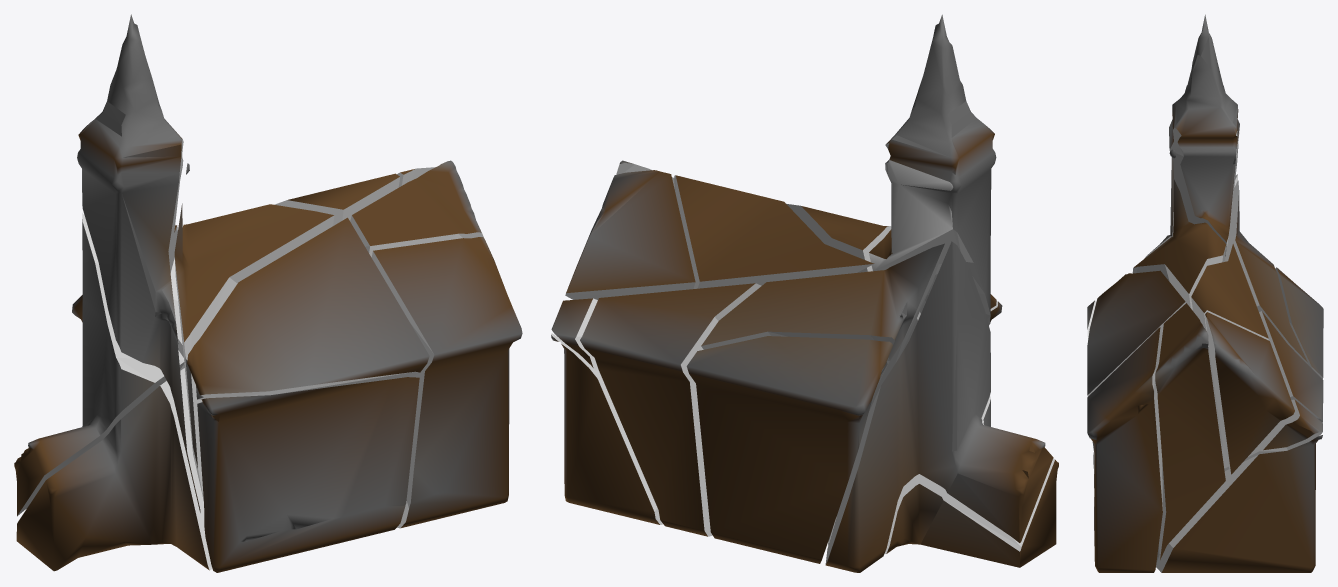
File: Churches(3).glb
3 renders of one model, left to right at view 1: azimuth 30°, elevation 25°; view 2: azimuth 150°, elevation 25°; view 3: azimuth 270°, elevation 25°, orthographic. The views are drawn at different scales.
Visible parts, largest first — view 1: Root.001, Root.015, Root.010, Root.003, Root, Root.012, Root.009, Root.005, Root.018; view 2: Root.014, Root.009, Root.006, Root.003, Root.004, Root.018, Root.008, Root.002, Root, Root.012, Root.011; view 3: Root.002, Root.015, Root.005, Root.003, Root.008, Root.010, Root.012, Root.018, Root.004, Root.014, Root.006, Root.011.
Boxes of the visible parts, x1,y1,x2,y2 form: Root.001: (197,377,419,572); Root.015: (371,237,522,528); Root.010: (187,217,429,399); Root.003: (77,14,200,513); Root: (16,368,212,571); Root.012: (174,203,334,499); Root.009: (14,213,184,516); Root.005: (350,160,484,257); Root.018: (275,173,399,225); Root.014: (686,336,893,563); Root.009: (825,241,1053,572); Root.006: (580,283,761,536); Root.003: (869,14,996,324); Root.004: (701,243,944,411); Root.018: (674,175,874,288); Root.008: (565,170,695,299); Root.002: (551,333,662,524); Root: (828,395,1058,567); Root.012: (786,203,920,354); Root.011: (551,298,600,374); Root.002: (1156,435,1322,572); Root.015: (1087,327,1162,572); Root.005: (1155,303,1225,559); Root.003: (1144,14,1239,258); Root.008: (1205,312,1294,474); Root.010: (1087,270,1185,396); Root.012: (1132,179,1226,310); Root.018: (1191,244,1268,357); Root.004: (1225,180,1307,363); Root.014: (1275,267,1323,379); Root.006: (1259,311,1323,422); Root.011: (1220,399,1322,470).
Size of the model in its own units: 12.62 by 14.71 by 7.25.
